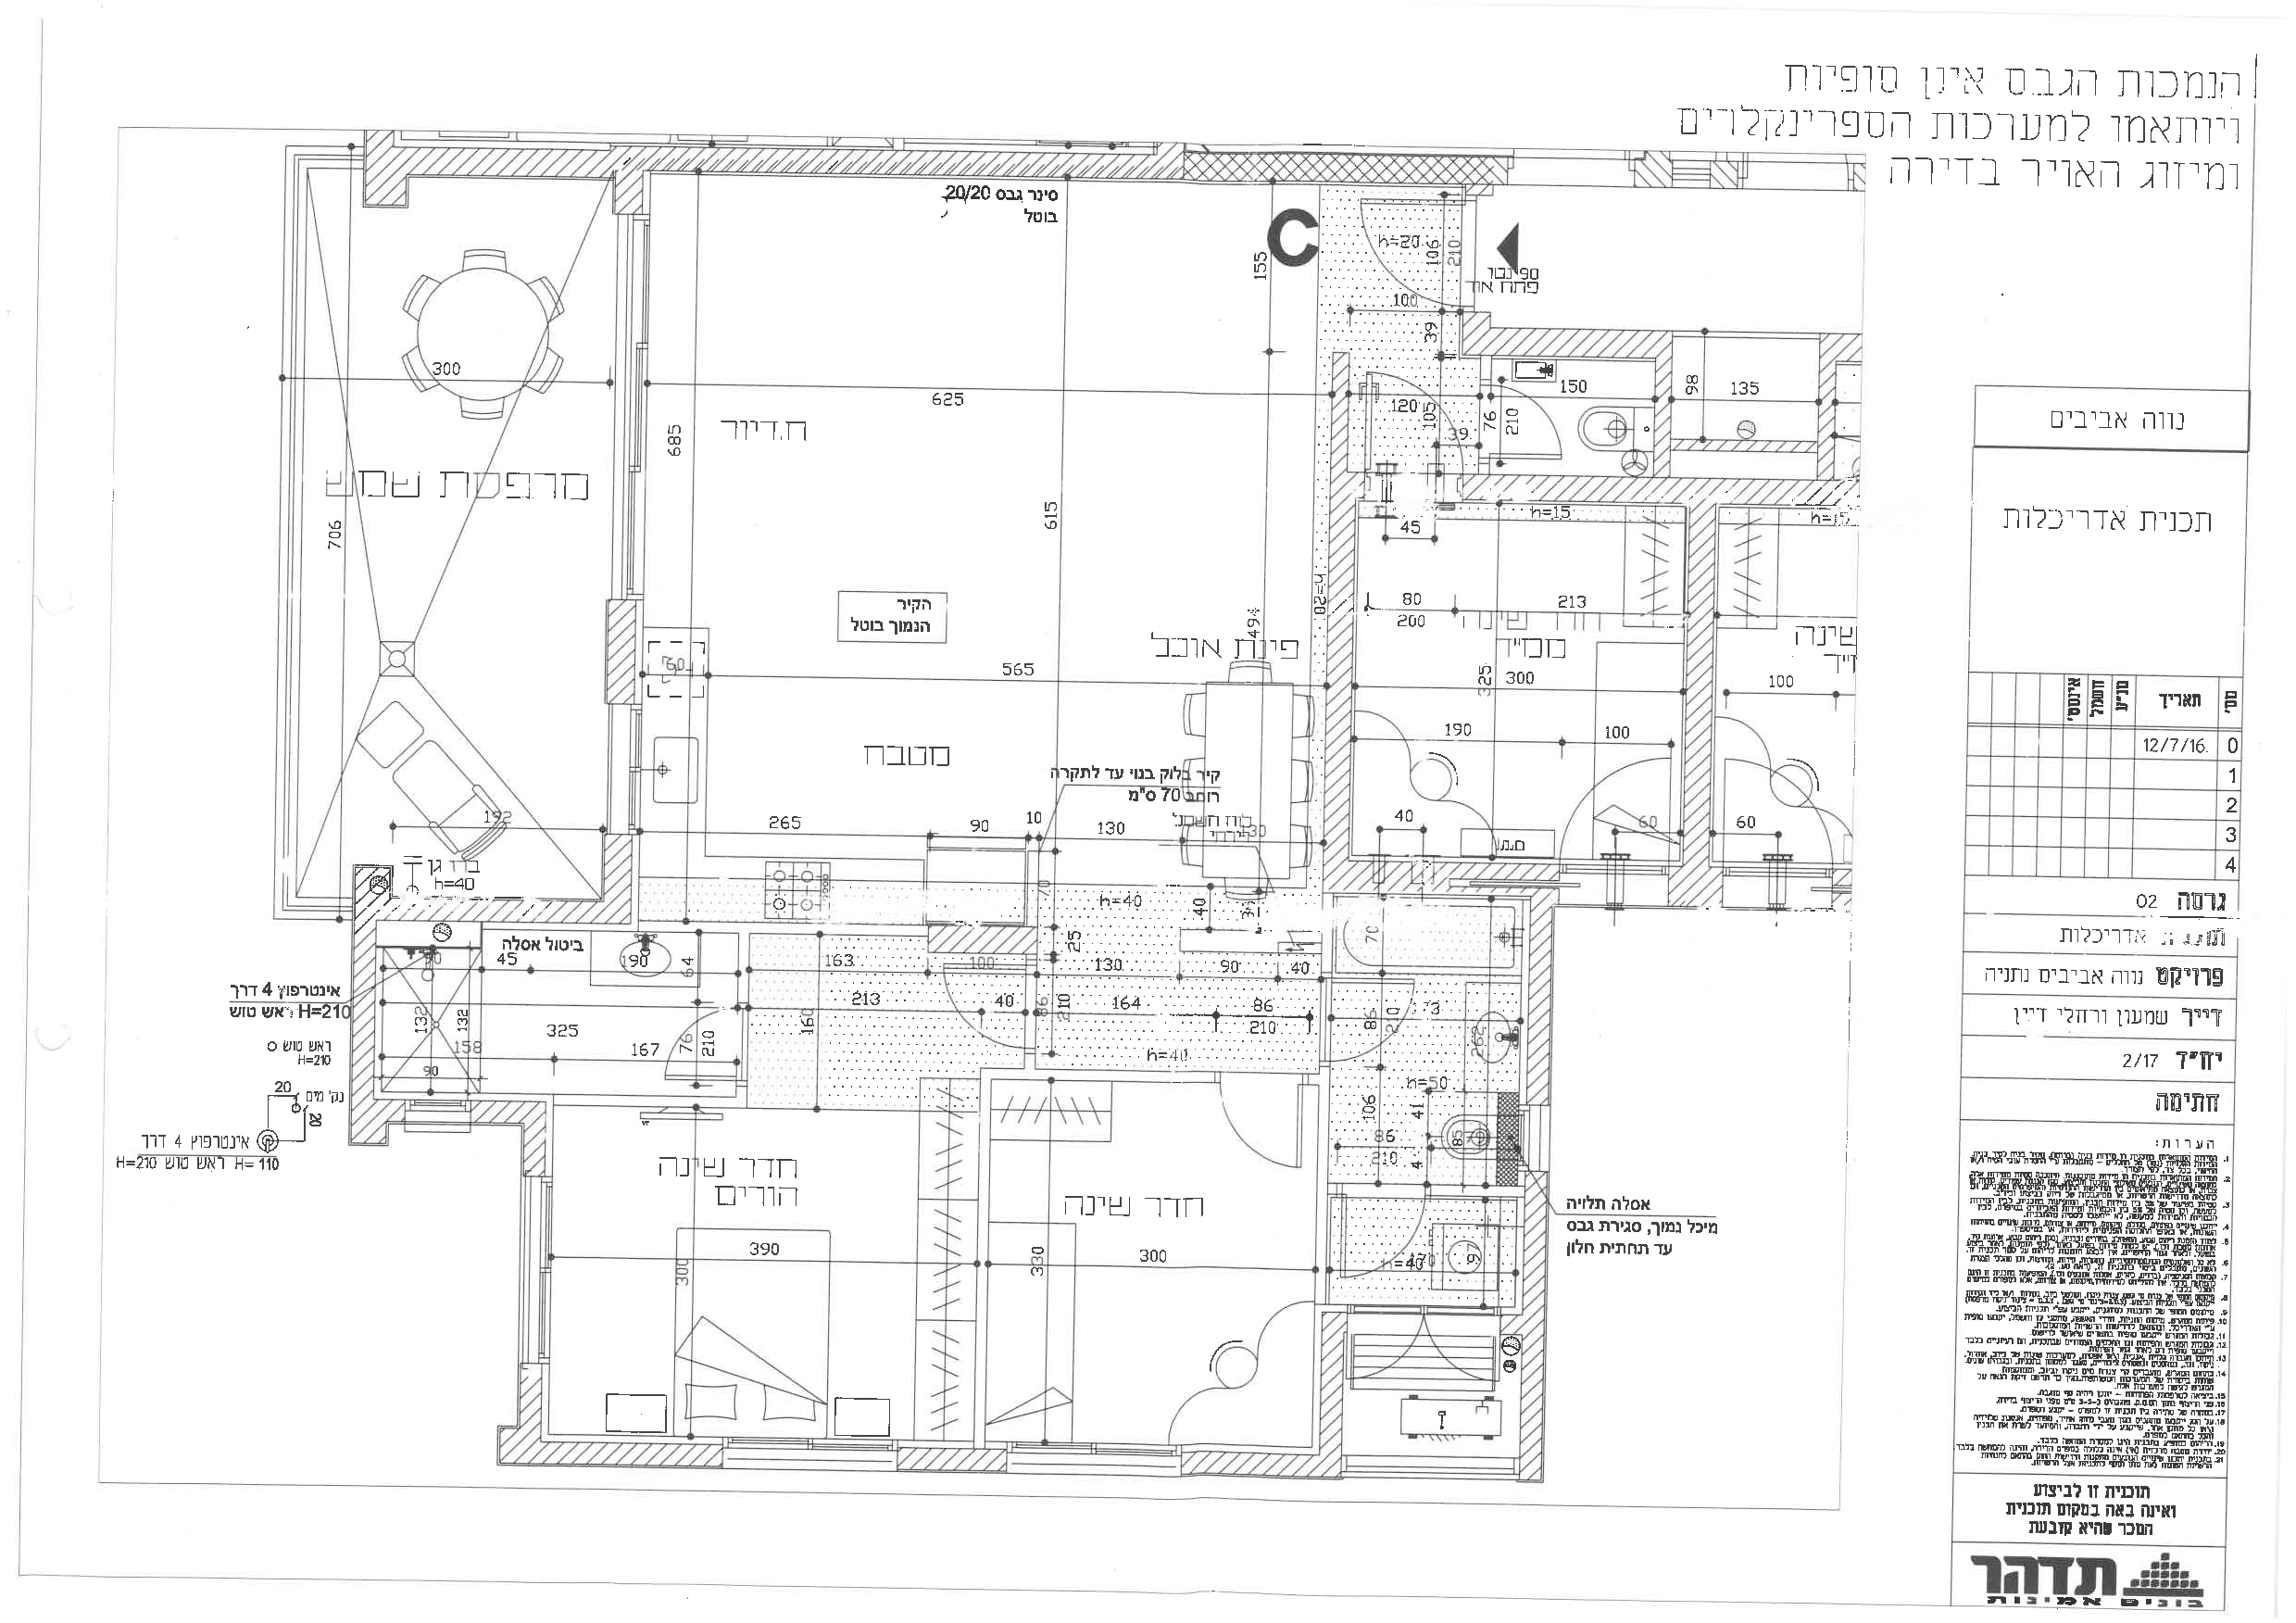door: (923, 959, 1020, 1054), (1213, 1091, 1311, 1184), (641, 998, 739, 1091)
wall: (1525, 1172, 1543, 1479), (1529, 898, 1548, 1105)
window: (611, 213, 651, 601), (725, 1439, 899, 1472), (1008, 1444, 1181, 1477), (521, 1175, 551, 1367), (607, 704, 639, 838), (1518, 1105, 1550, 1173)
